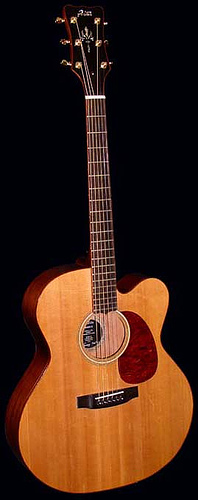guitar: (8, 9, 194, 495)
